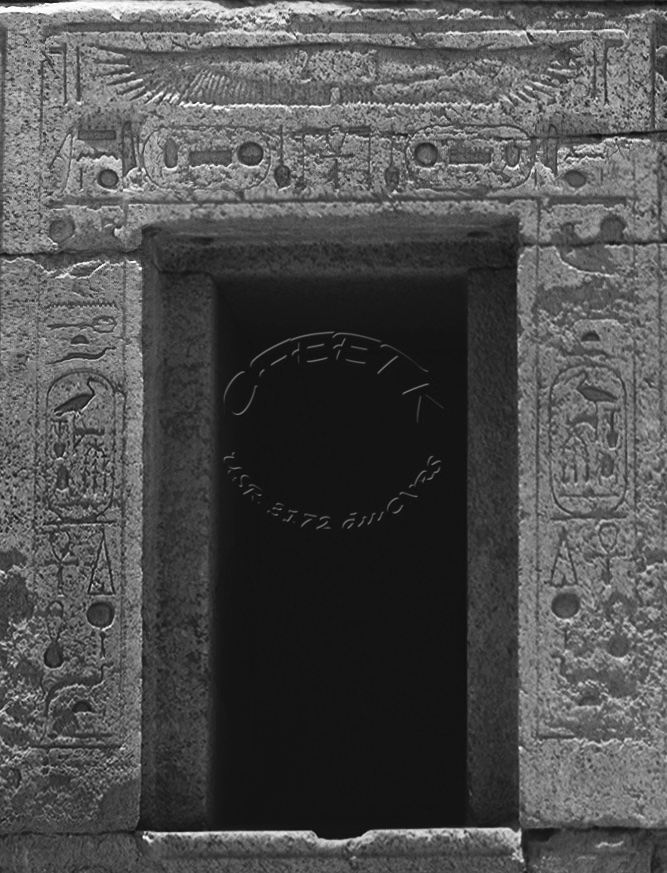F35: (378, 123, 408, 197), (267, 123, 295, 191), (600, 400, 627, 451)
I10: (42, 655, 118, 727)
M17: (115, 121, 143, 192), (540, 122, 565, 185)
N35: (39, 297, 121, 313)
X8: (541, 521, 583, 590), (84, 524, 121, 598)
